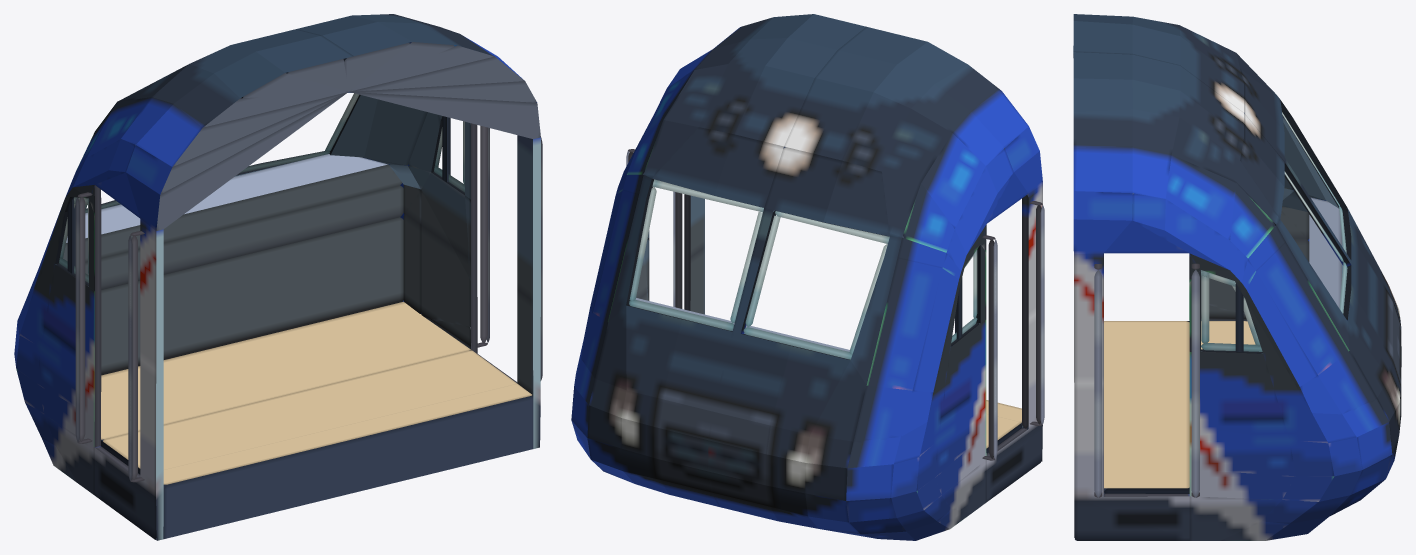
Rendered from df11g_front.obj.
3 renders of one model, left to right at view 1: azimuth 30°, elevation 25°; view 2: azimuth 150°, elevation 25°; view 3: azimuth 270°, elevation 25°, orthographic. The views are drawn at different scales.
Parts seen in each view (by area): view 1: cube_selection_selection; view 2: cube_selection_selection; view 3: cube_selection_selection.
Part boxes in pixels (bbox=[...]): cube_selection_selection: bbox=[14, 14, 542, 540]; cube_selection_selection: bbox=[571, 14, 1044, 540]; cube_selection_selection: bbox=[1073, 14, 1401, 540].
Size of the model in its own units: 3.38 by 3.44 by 2.53.
